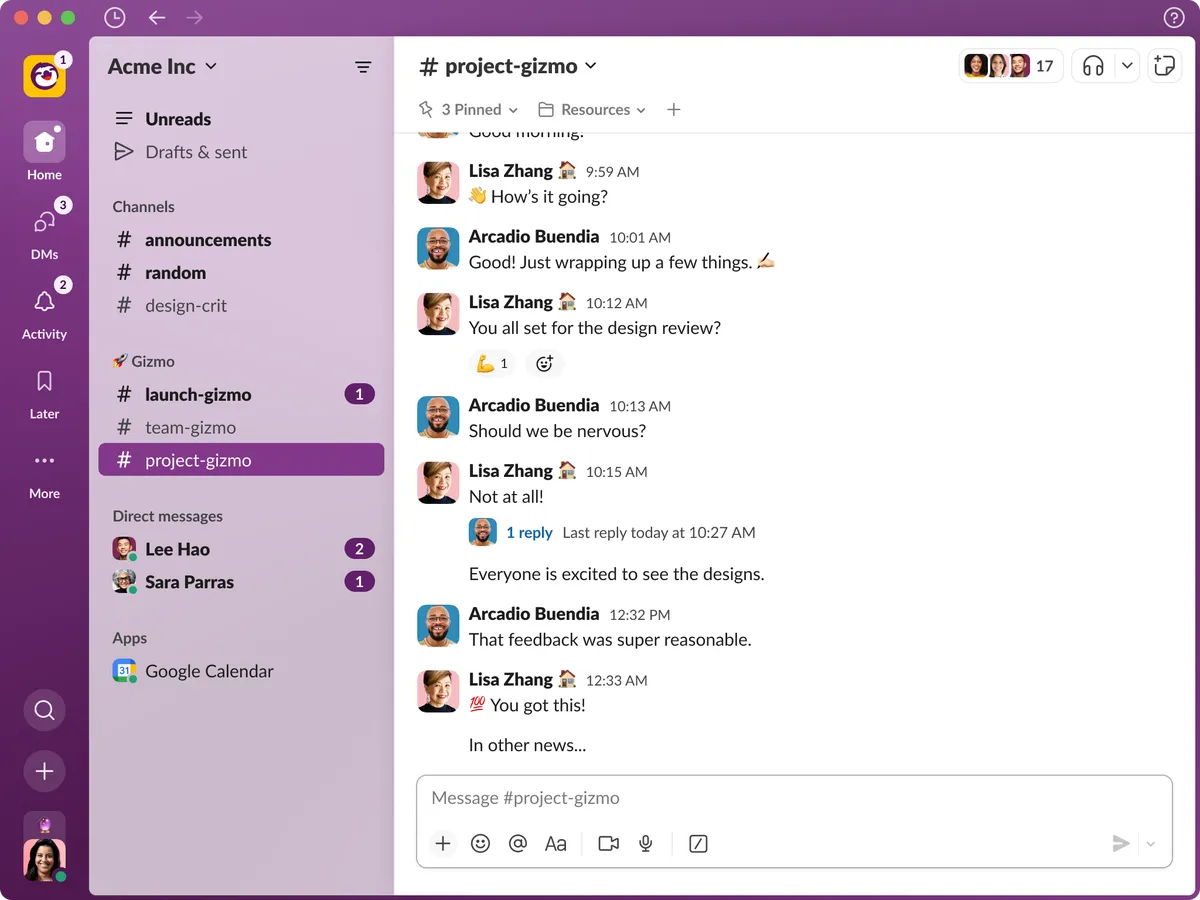Message: (430, 786, 502, 806)
feedback: (504, 629, 581, 649)
